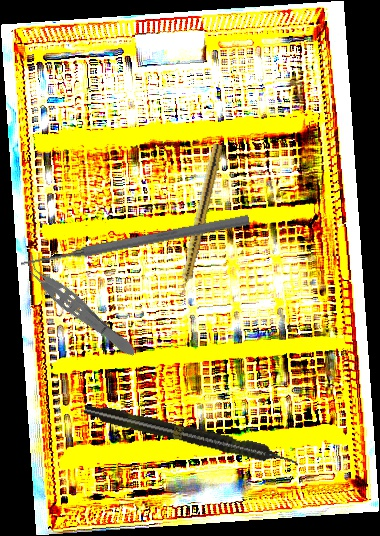Handpiece: (82, 400, 301, 472), (174, 142, 224, 298)
Pusher: (19, 212, 251, 271)
Tissue Forceps: (16, 252, 142, 363)
